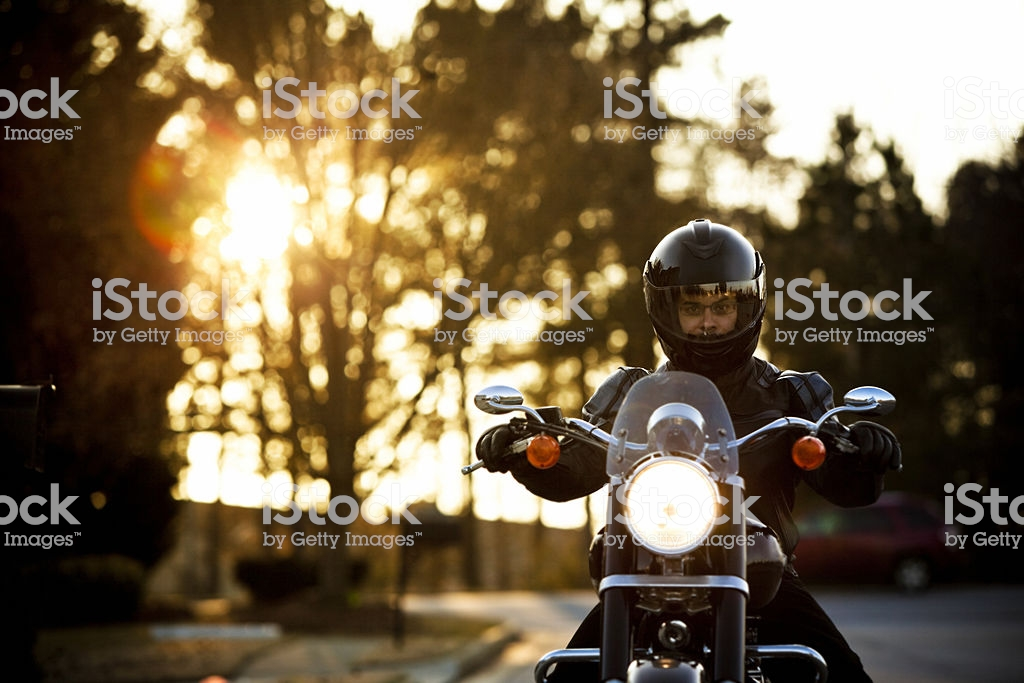helmet: (637, 222, 770, 359)
